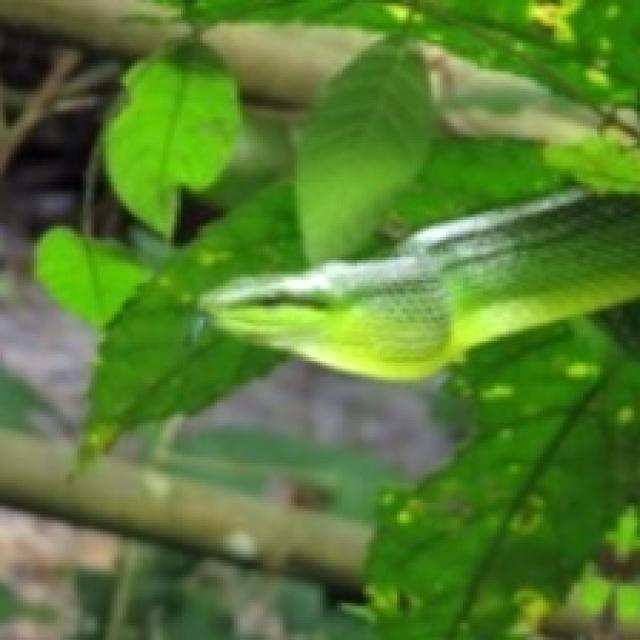red-tailed green ratsnake: (200, 189, 637, 377)
